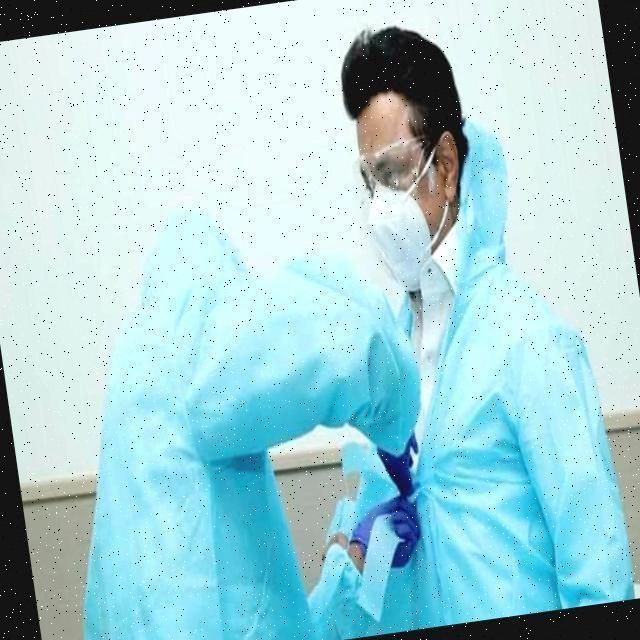apron: (346, 504, 432, 560), (369, 430, 437, 493)
gloves: (115, 196, 228, 292)
mask: (362, 179, 430, 300)
no_gloves: (334, 20, 462, 134)
